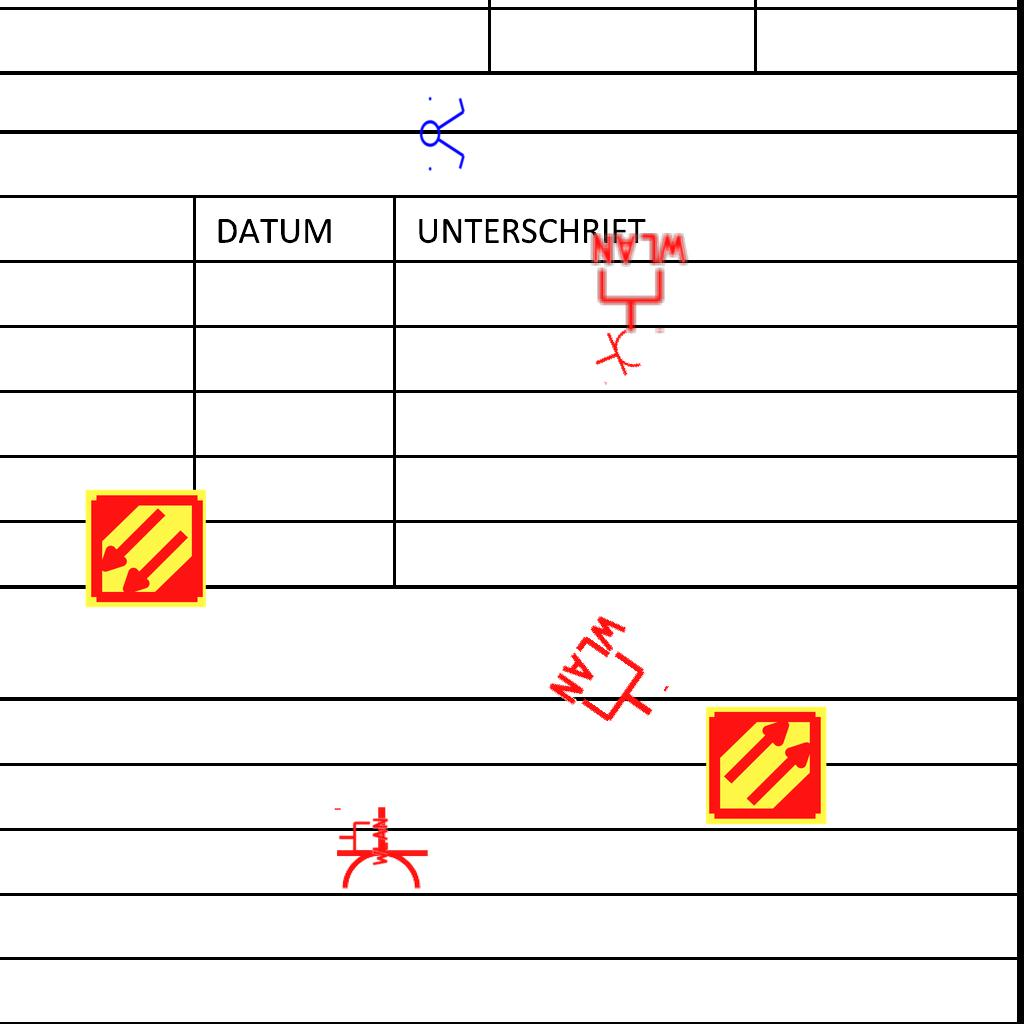ASR_Ansaugrauchmelder: (704, 703, 829, 828), (83, 486, 208, 611)
Schukosteckdose_einfach: (330, 805, 430, 892), (585, 324, 646, 388)
Serienschalter: (419, 91, 467, 175)
WLAN: (543, 605, 690, 751), (588, 231, 692, 336), (337, 816, 389, 868)
